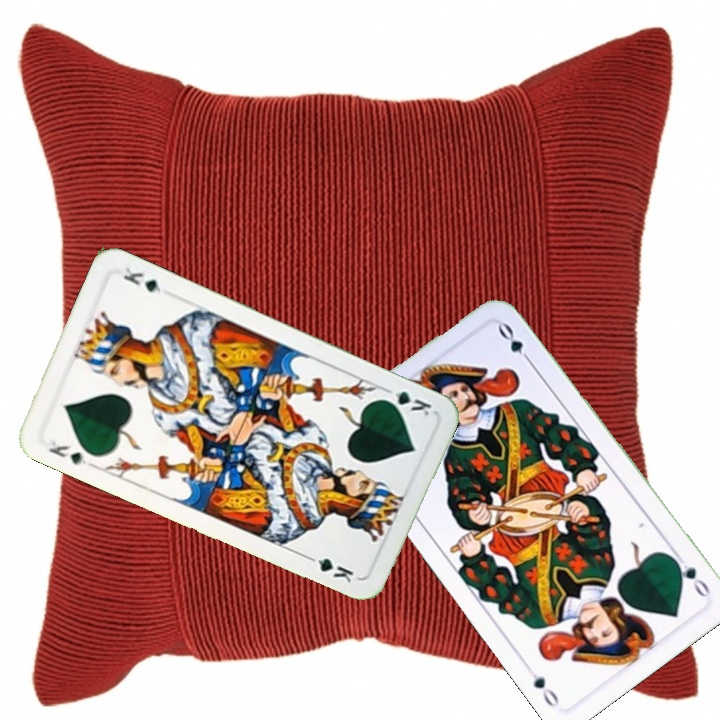GK: (377, 383, 435, 419), (45, 436, 95, 469)
GO: (668, 549, 713, 601)
